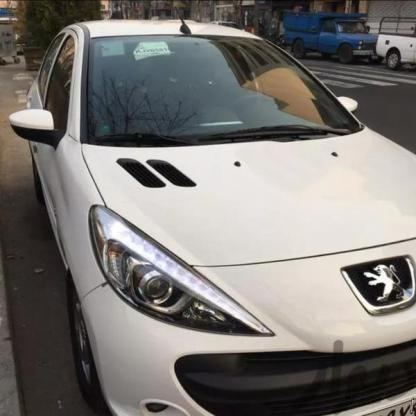Car: (0, 0, 416, 416), (288, 5, 386, 63), (366, 14, 412, 79)
